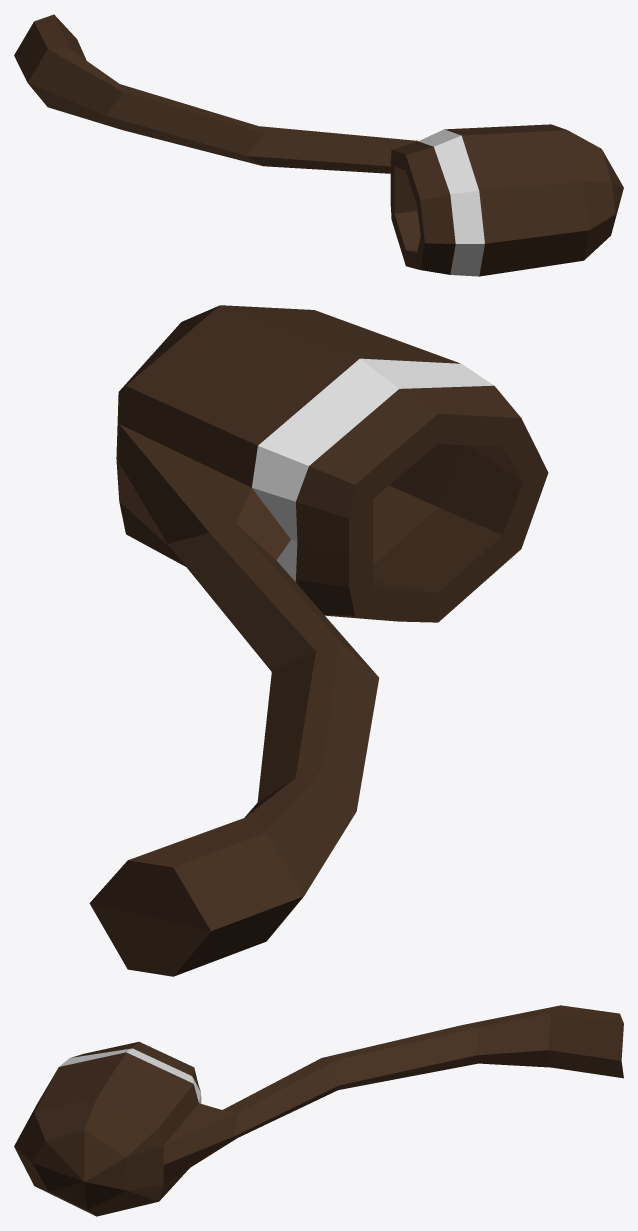
Rendered from trubka.fbx.
The picture shows the model from 3 angles, top to bottom: view 1: azimuth 30°, elevation 25°; view 2: azimuth 150°, elevation 25°; view 3: azimuth 270°, elevation 25°; orthographic projection. The views are drawn at different scales.
Parts seen in each view (by area): view 1: pCube156; view 2: pCube156; view 3: pCube156.
Part boxes in pixels (bbox=[...]): pCube156: bbox=[14, 14, 623, 276]; pCube156: bbox=[89, 305, 548, 976]; pCube156: bbox=[14, 1005, 623, 1216].
Size of the model in its own units: 0.2606 by 0.0993 by 0.4294.
